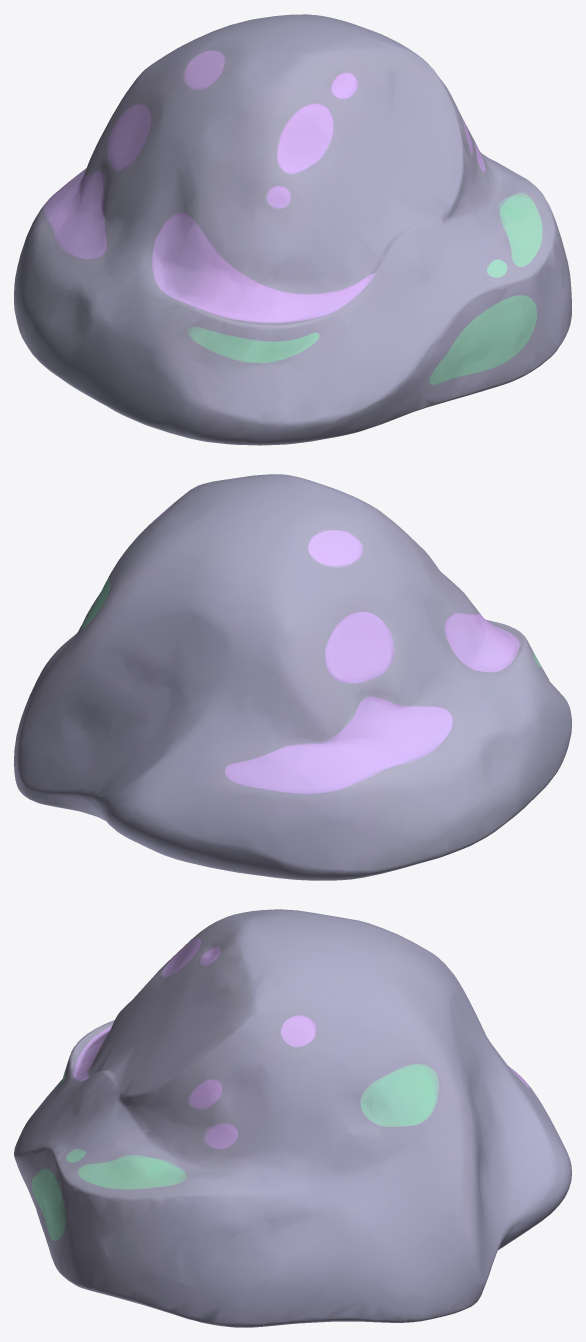
File: static.glb
The picture shows the model from 3 angles, top to bottom: view 1: azimuth 30°, elevation 25°; view 2: azimuth 150°, elevation 25°; view 3: azimuth 270°, elevation 25°; orthographic projection. The views are drawn at different scales.
Visible parts, largest first — view 1: Mesh_0; view 2: Mesh_0; view 3: Mesh_0.
Part boxes in pixels (box(x1,y1,x2,y2)): Mesh_0: box(14, 14, 571, 445); Mesh_0: box(14, 474, 571, 880); Mesh_0: box(14, 909, 571, 1327).
Bounding box in the file's own units: 1.87 × 1.14 × 1.9.
Materials: 1 (1 with a texture image).
